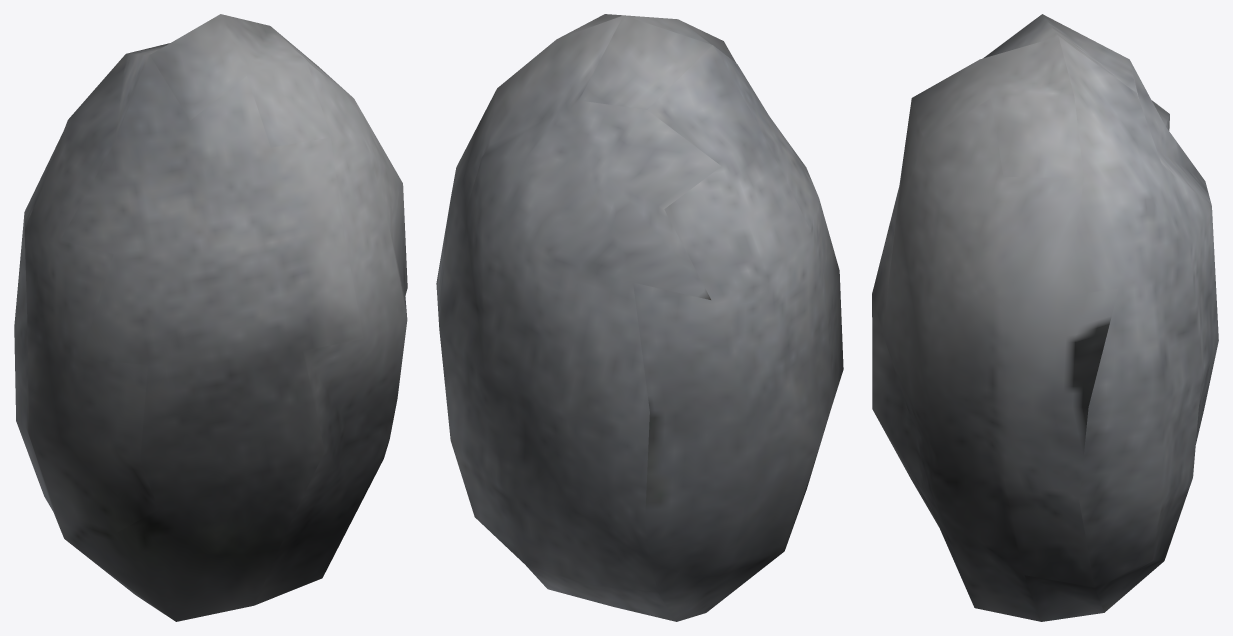
The model's file is Rocks 08.glb.
3 views of the same model, side by side, from view 1: azimuth 30°, elevation 25°; view 2: azimuth 150°, elevation 25°; view 3: azimuth 270°, elevation 25° (orthographic). The views are drawn at different scales.
Parts seen in each view (by area): view 1: Rock 08; view 2: Rock 08; view 3: Rock 08.
Part boxes in pixels (x1,y1,x2,y2): Rock 08: (14, 14, 407, 621); Rock 08: (436, 14, 843, 621); Rock 08: (872, 14, 1218, 621).
Size of what is drawn, in the model's own units: 1.22 by 1.85 by 1.03.
Materials: 1 (1 with a texture image).
